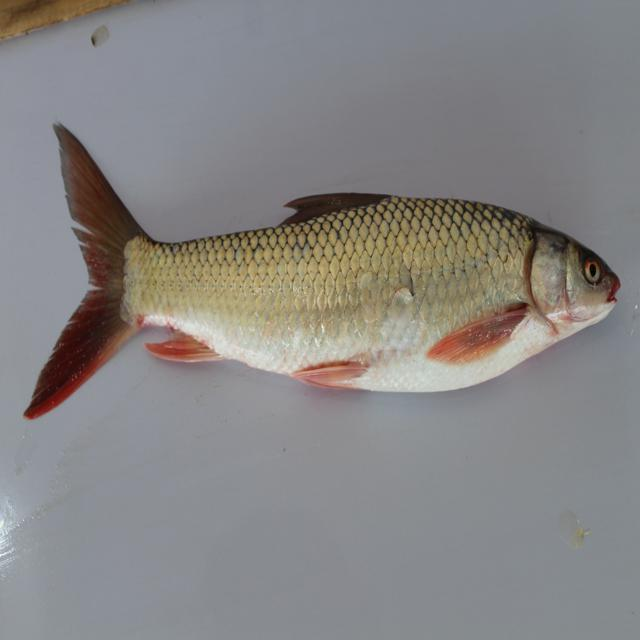Mori: (27, 98, 640, 467)
